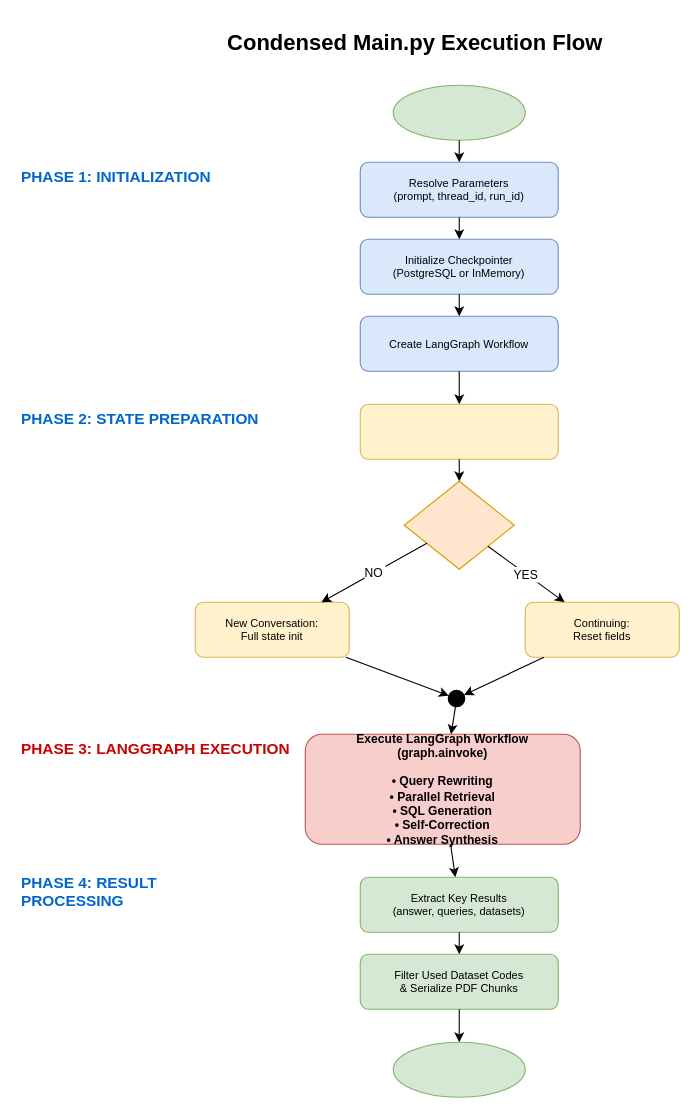
Some shapes in this 699 by 1117 pixel diagram are drawn without their labels. Each missing label, with the centre of its shape:
"Check Existing Conversation State" goes at pixel 458 431.
"Existing state?" goes at pixel 458 524.
"main() Entry" goes at pixel 458 112.
"Return Result" goes at pixel 458 1069.
